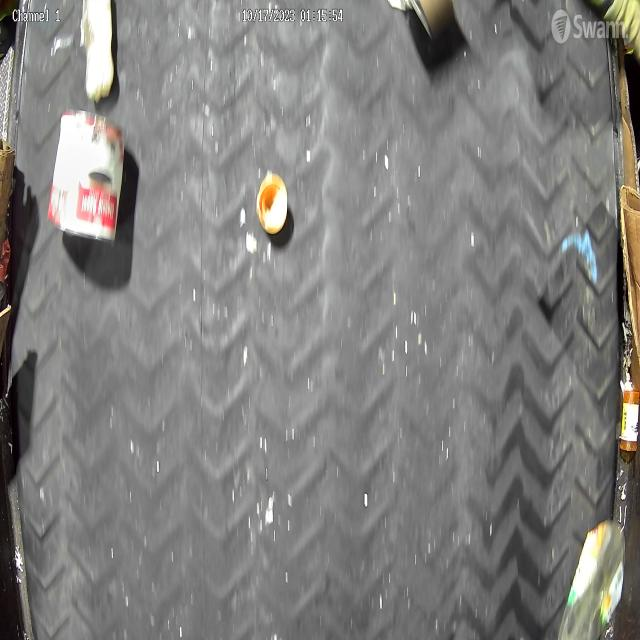can: (50, 108, 126, 244)
